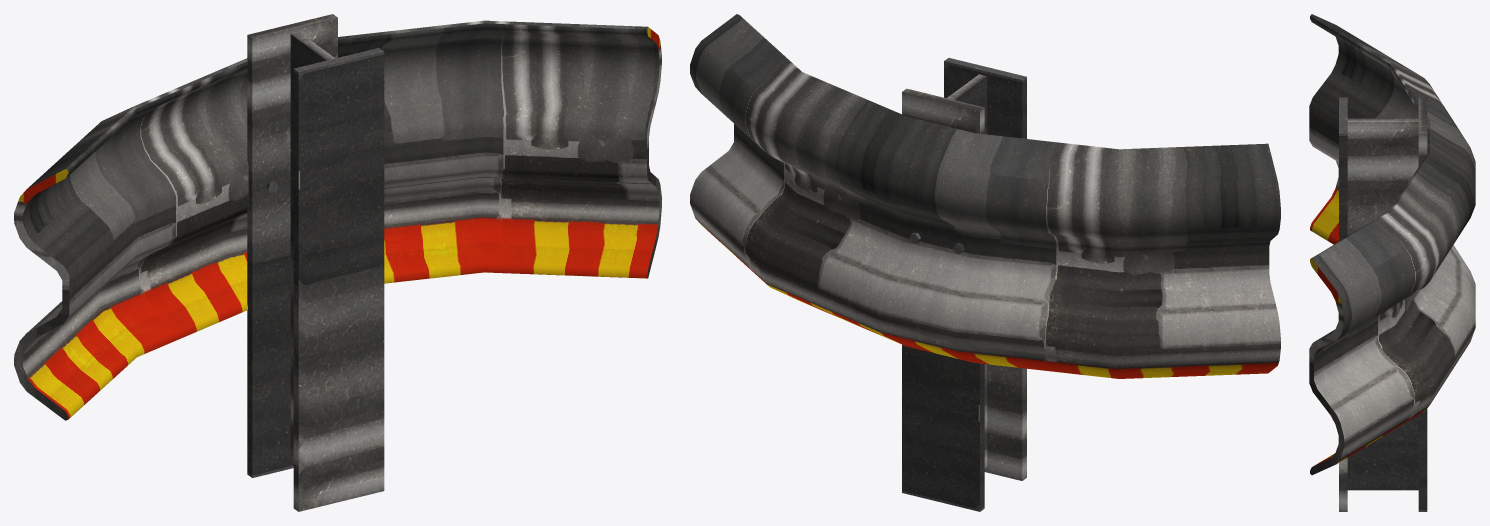
Rendered from Rail 3.FBX.
3 views of the same model, side by side, from view 1: azimuth 30°, elevation 25°; view 2: azimuth 150°, elevation 25°; view 3: azimuth 270°, elevation 25° (orthographic). The views are drawn at different scales.
Visible parts, largest first — view 1: guardrail_u_90deg_out; view 2: guardrail_u_90deg_out; view 3: guardrail_u_90deg_out.
Part boxes in pixels (box(x1,y1,x2,y2)): guardrail_u_90deg_out: box(14, 14, 661, 511); guardrail_u_90deg_out: box(690, 14, 1280, 511); guardrail_u_90deg_out: box(1309, 14, 1475, 511).
Size of the model in its own units: 155 by 101 by 40.16.
